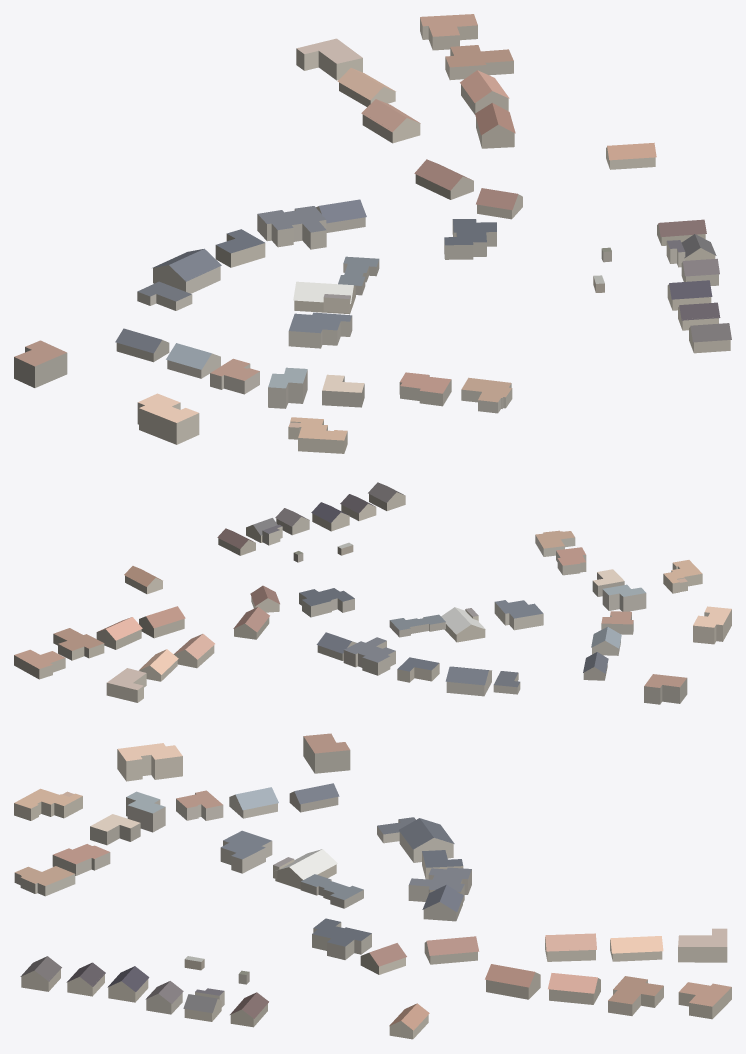
The picture shows the model from 3 angles, top to bottom: view 1: azimuth 30°, elevation 25°; view 2: azimuth 150°, elevation 25°; view 3: azimuth 270°, elevation 25°; orthographic projection. The views are drawn at different scales.
Parts seen in each view (by area): view 1: tuile; view 2: tuile; view 3: tuile.
Part boxes in pixels (bbox=[...]): tuile: bbox=[14, 14, 731, 453]; tuile: bbox=[14, 482, 731, 704]; tuile: bbox=[14, 733, 731, 1039].
Size of the model in its own units: 262 by 20.18 by 257.
